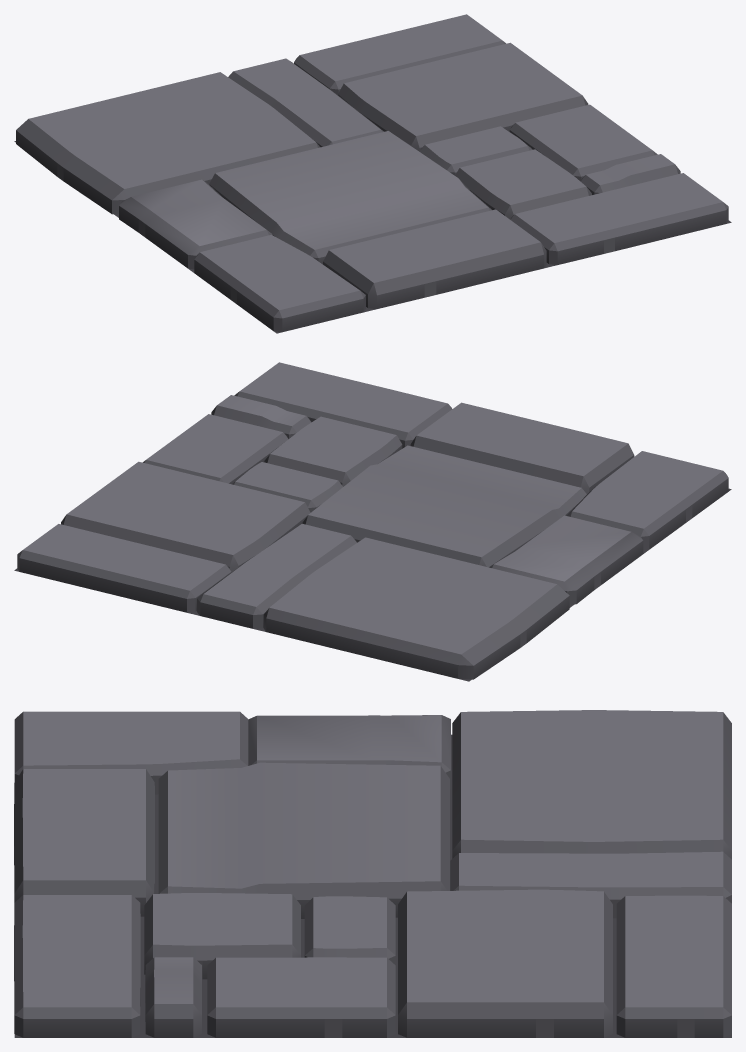
File: ChaoDePedra_LoPo.fbx
3 renders of one model, top to bottom at view 1: azimuth 30°, elevation 25°; view 2: azimuth 150°, elevation 25°; view 3: azimuth 270°, elevation 25°, orthographic. The views are drawn at different scales.
Parts seen in each view (by area): view 1: ChaoDePedra_LoPo; view 2: ChaoDePedra_LoPo; view 3: ChaoDePedra_LoPo.
Part boxes in pixels (x1,y1,x2,y2): ChaoDePedra_LoPo: (14, 14, 731, 333); ChaoDePedra_LoPo: (14, 362, 731, 681); ChaoDePedra_LoPo: (14, 710, 731, 1037).
Bounding box in the file's own units: 202 × 9.99 × 200.
